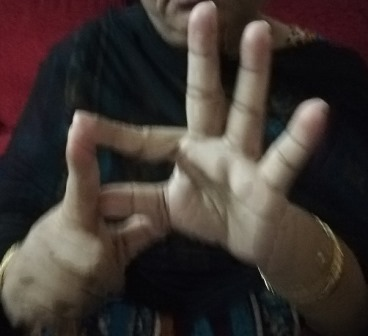k: (67, 4, 321, 254)
